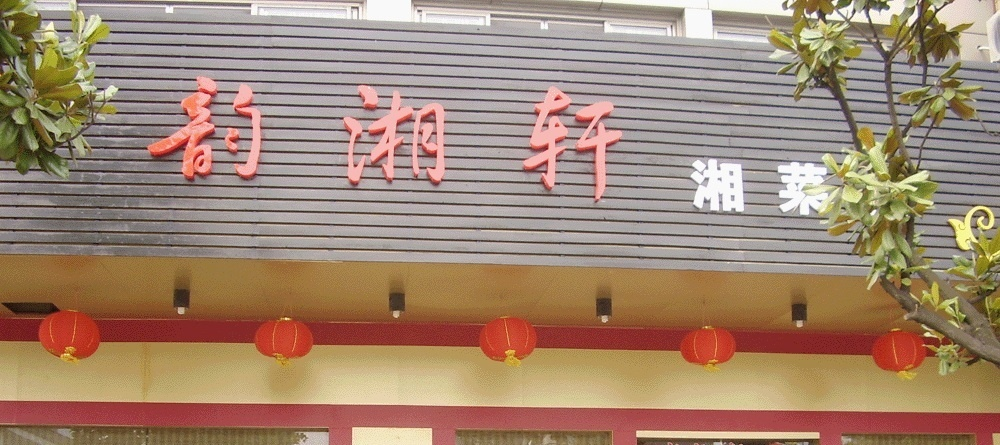text: (146, 77, 161, 208), (162, 77, 177, 208), (178, 77, 193, 208), (194, 77, 209, 208), (210, 77, 225, 208), (226, 77, 241, 208), (242, 77, 257, 208), (258, 77, 273, 208), (274, 77, 289, 208), (290, 77, 305, 208), (306, 77, 321, 208), (322, 77, 337, 208), (338, 77, 353, 208), (354, 77, 369, 208), (370, 77, 385, 208), (386, 77, 401, 208), (402, 77, 417, 208), (418, 77, 433, 208), (434, 77, 449, 208), (450, 77, 465, 208), (466, 77, 481, 208), (482, 77, 497, 208), (498, 77, 513, 208), (514, 77, 529, 208), (530, 77, 545, 208), (546, 77, 561, 208), (562, 77, 577, 208), (578, 77, 593, 208), (594, 77, 609, 208), (610, 77, 625, 208), (687, 154, 702, 217), (703, 154, 718, 217), (719, 154, 734, 217), (735, 154, 750, 217), (751, 154, 766, 217), (767, 154, 782, 217), (783, 154, 798, 217), (799, 154, 814, 217), (815, 154, 830, 217)
